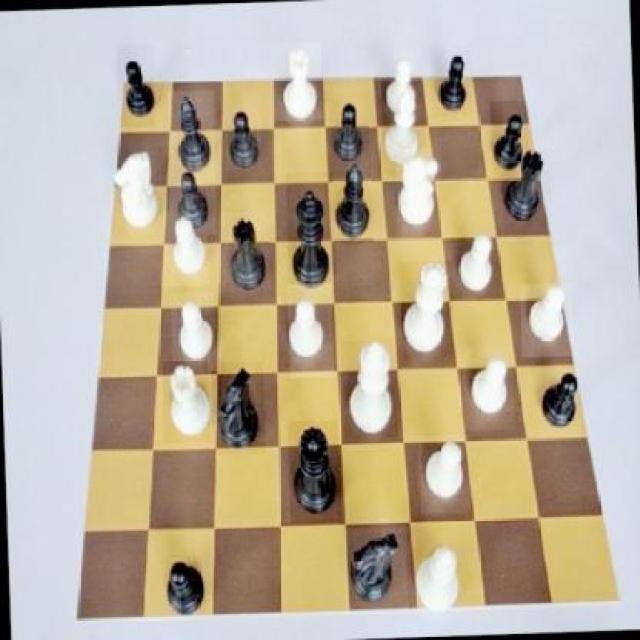bishop: (168, 91, 217, 183), (331, 157, 374, 246)
black-bishop: (286, 172, 337, 298)
black-king: (343, 528, 409, 612), (211, 360, 266, 455)
black-knight: (160, 548, 212, 628), (323, 92, 370, 172), (168, 164, 217, 236), (116, 45, 156, 129), (536, 369, 580, 440), (489, 100, 528, 180), (431, 46, 474, 116), (224, 104, 262, 170)
black-pawn: (288, 420, 342, 525)
black-queen: (500, 148, 554, 228), (220, 211, 271, 293)
black-rook: (409, 525, 463, 622), (380, 80, 427, 177)
white-bishop: (342, 338, 398, 441)
white-king: (112, 142, 160, 242), (396, 148, 442, 234)
white-knight: (461, 346, 514, 430), (288, 283, 334, 379), (418, 435, 472, 513), (520, 281, 574, 357), (451, 222, 501, 300), (170, 293, 218, 372), (163, 210, 209, 288), (377, 49, 419, 123)
white-pawn: (398, 260, 456, 360)
white-queen: (271, 41, 323, 120), (162, 358, 210, 442)
